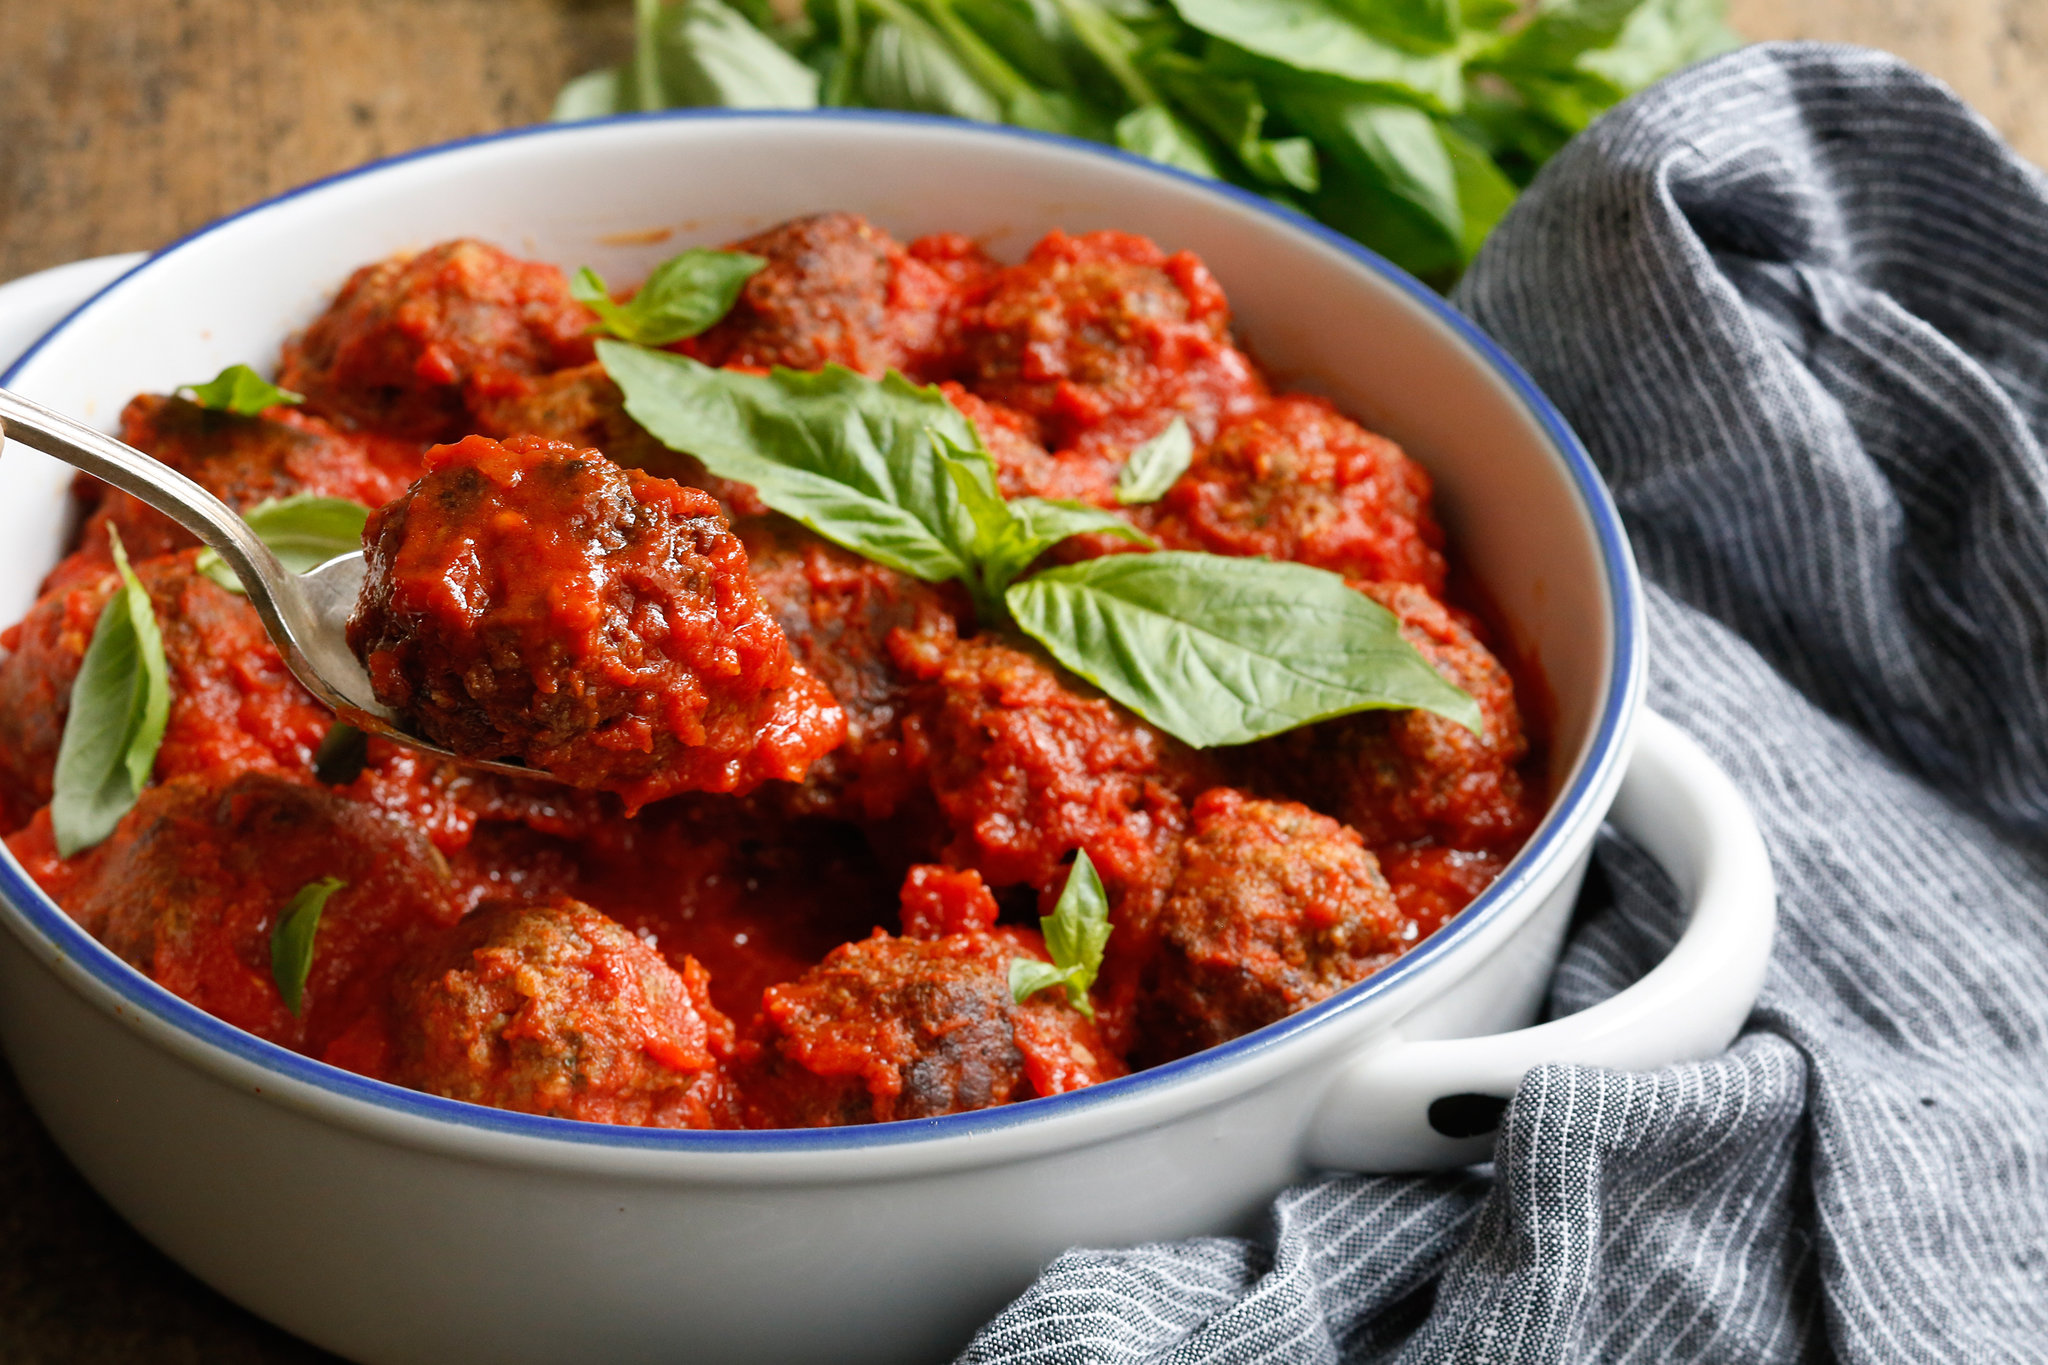meatballs: (90, 215, 1424, 1027)
